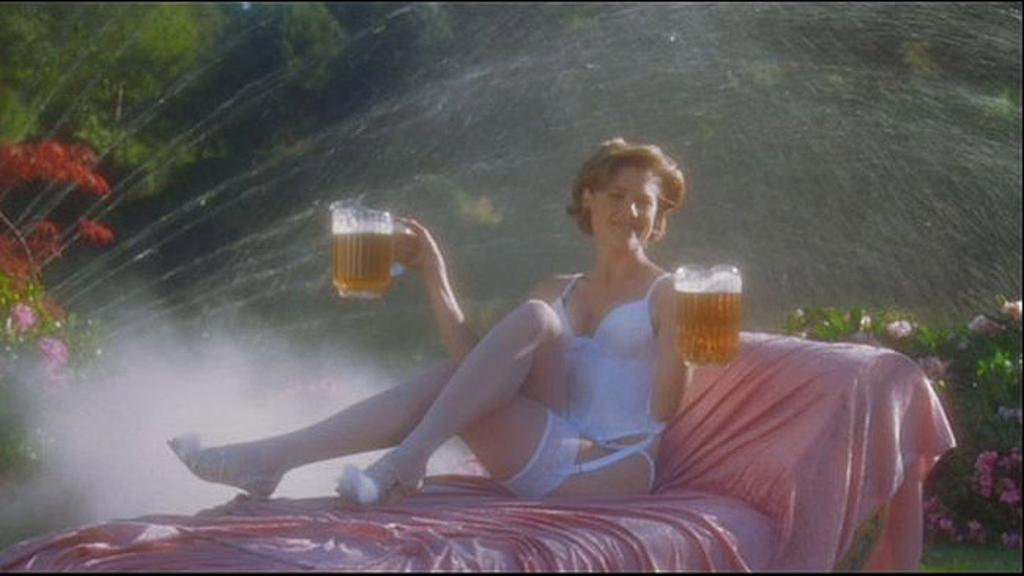face: (590, 170, 664, 252)
